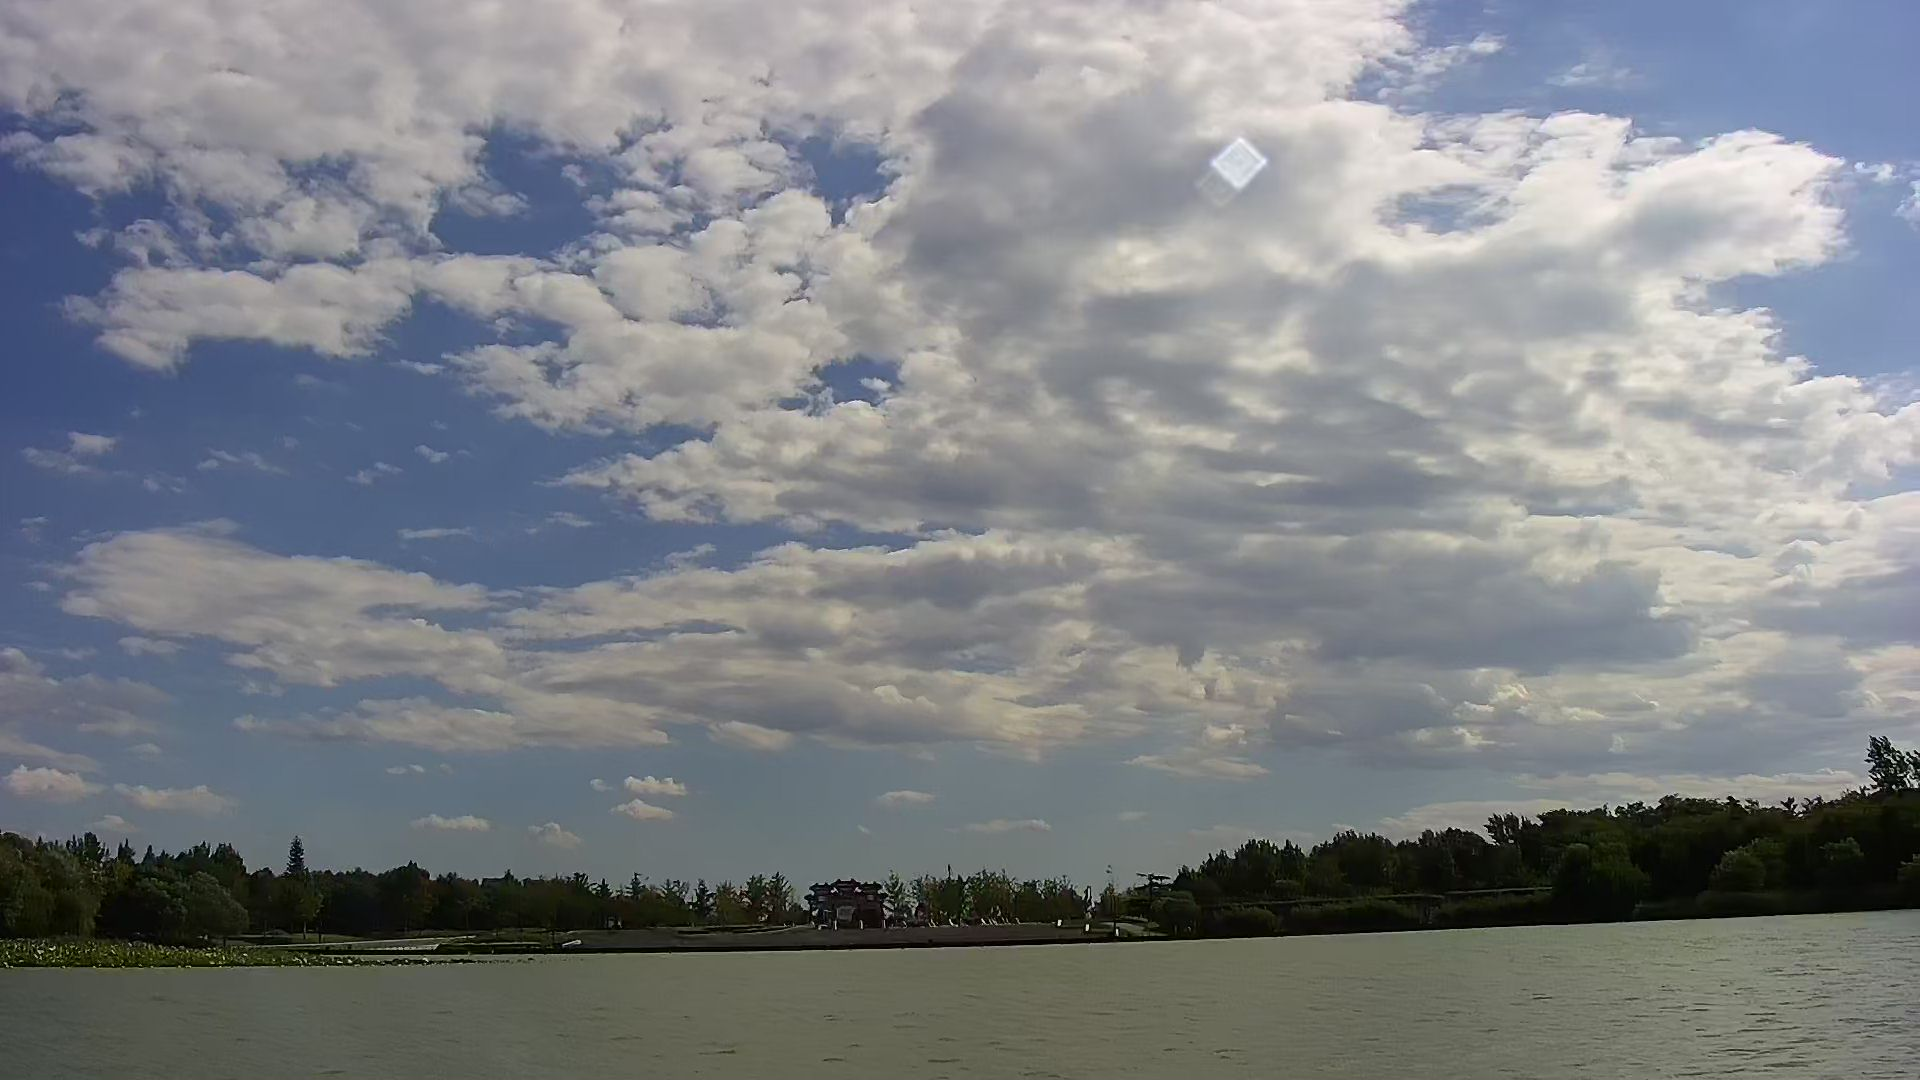harbor: (574, 915, 1182, 951)
